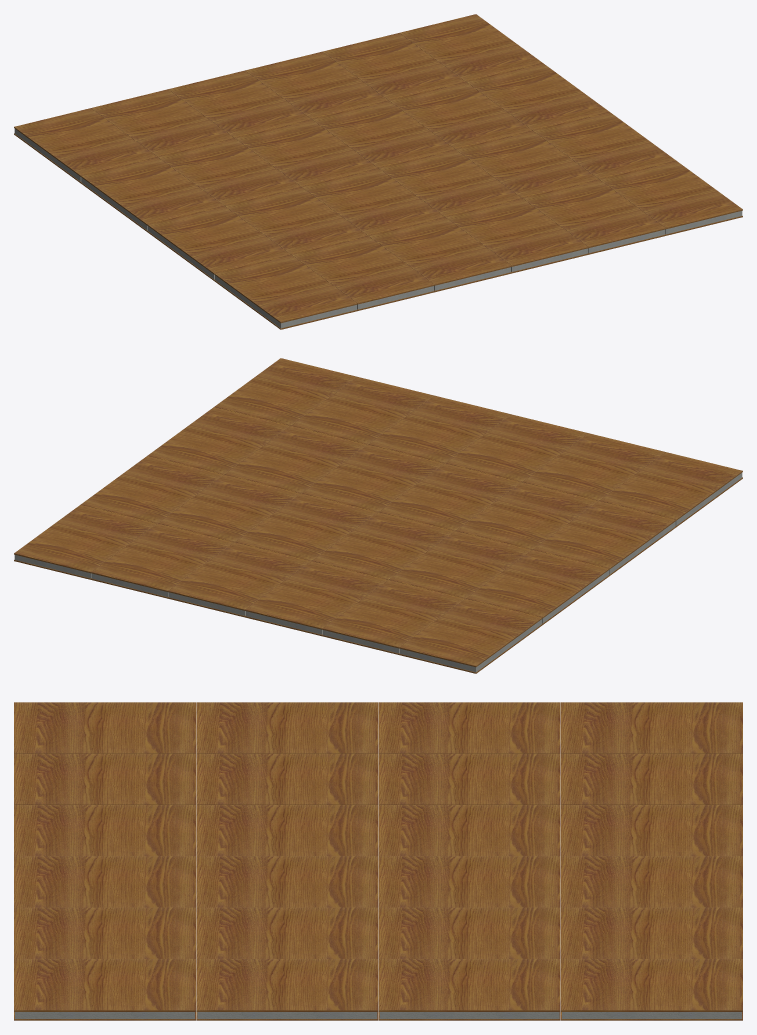
Rendered from glb-32.glb.
The picture shows the model from 3 angles, top to bottom: view 1: azimuth 30°, elevation 25°; view 2: azimuth 150°, elevation 25°; view 3: azimuth 270°, elevation 25°; orthographic projection. The views are drawn at different scales.
Visible parts, largest first — view 1: Box001; view 2: Box001; view 3: Box001.
Part boxes in pixels (x1,y1,x2,y2): Box001: [14, 14, 742, 329]; Box001: [14, 358, 742, 673]; Box001: [14, 702, 742, 1020].
Bounding box in the file's own units: 5 × 0.08 × 5.
2 materials, 2 textured.
